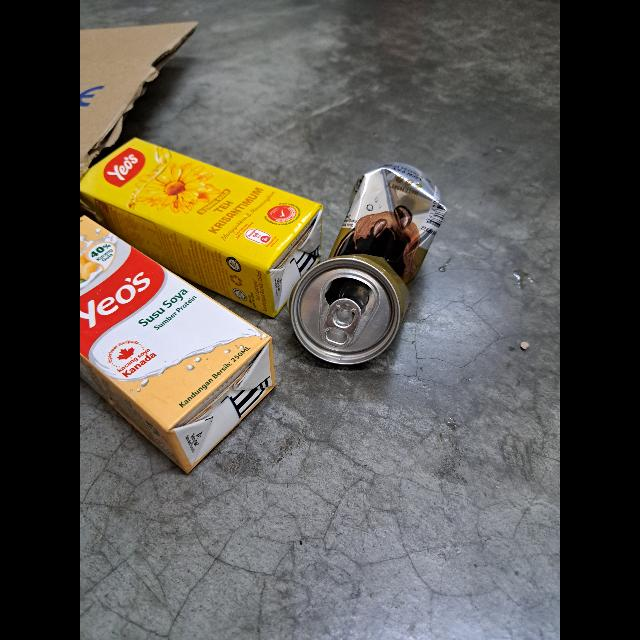aba de lata: (324, 298, 362, 348)
caixinha: (80, 214, 278, 473), (80, 137, 326, 319)
lata: (290, 164, 448, 368)
papelão: (80, 22, 202, 180)
